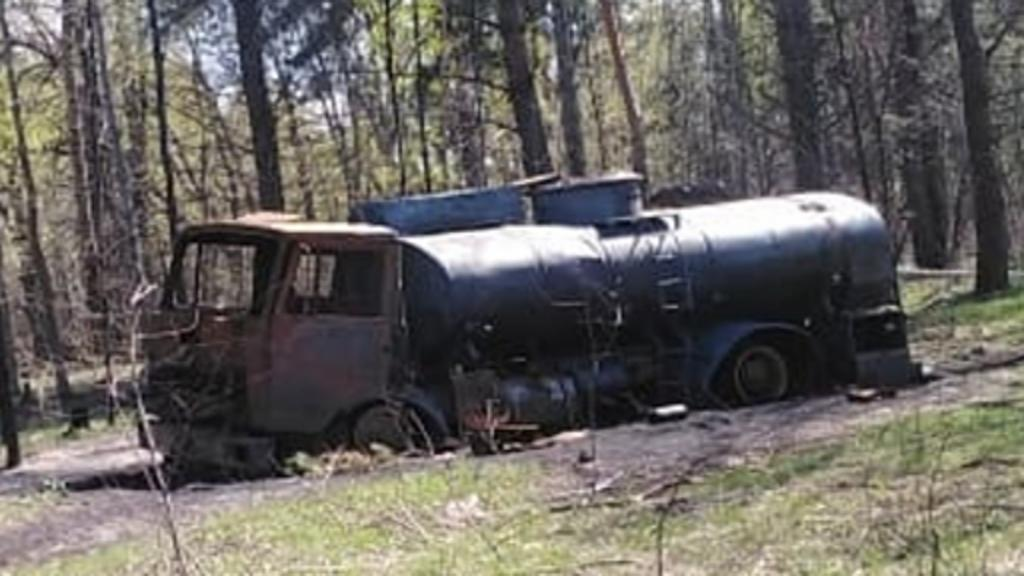TRUCK: (150, 165, 902, 468)
